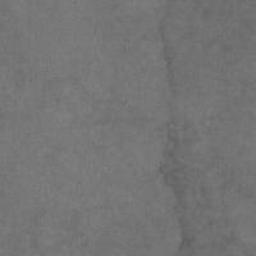Water spot: (156, 0, 256, 256)
